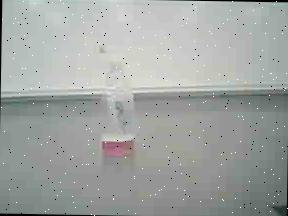hazard: (84, 32, 152, 164)
